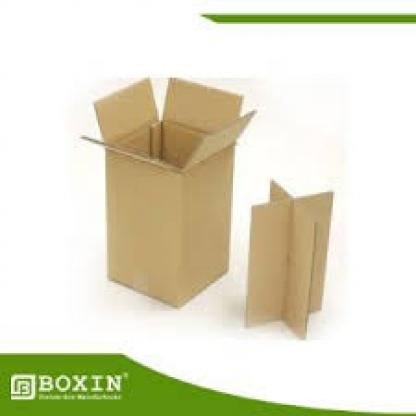Aluminum can: (74, 72, 362, 348)
